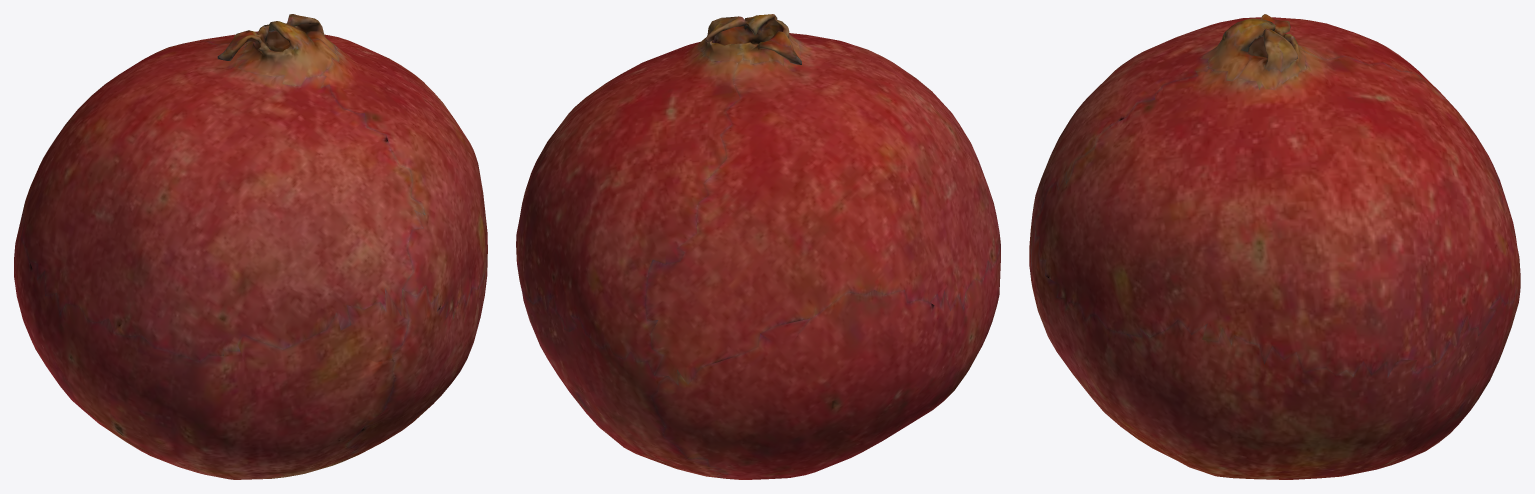
Rendered from food_pomegranate_01.glb.
The picture shows the model from 3 angles, left to right: view 1: azimuth 30°, elevation 25°; view 2: azimuth 150°, elevation 25°; view 3: azimuth 270°, elevation 25°; orthographic projection. The views are drawn at different scales.
Parts seen in each view (by area): view 1: food_pomegranate_01; view 2: food_pomegranate_01; view 3: food_pomegranate_01.
Part boxes in pixels (x1=…): food_pomegranate_01: x1=14, y1=14, x2=487, y2=479; food_pomegranate_01: x1=516, y1=14, x2=1000, y2=479; food_pomegranate_01: x1=1029, y1=14, x2=1520, y2=479.
Bounding box in the file's own units: 0.1143 × 0.115 × 0.1154.
1 material, 1 textured.
